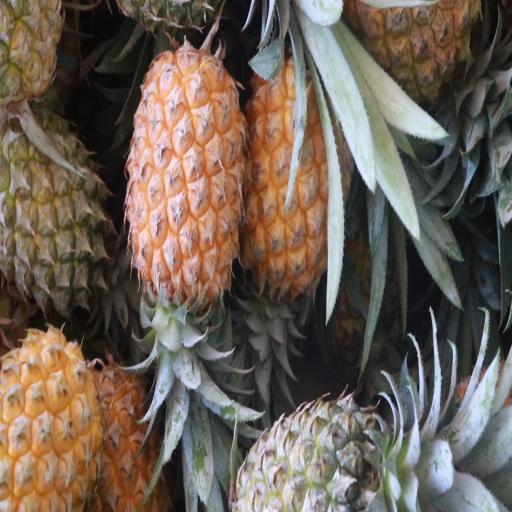------------------------------: (0, 110, 107, 314)
Pineapple - v8 v1: (126, 50, 246, 304), (246, 56, 347, 290), (0, 332, 99, 512), (350, 0, 490, 119)
